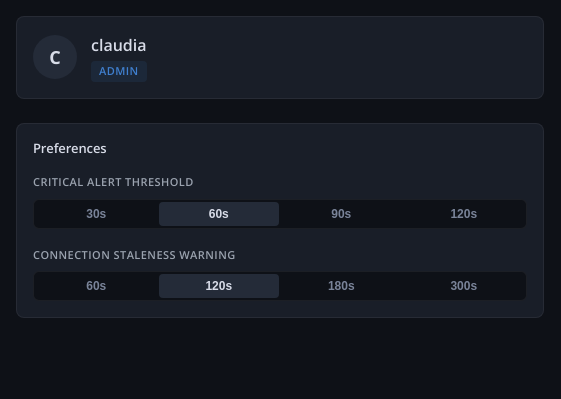
Test case: Profile — round-trip + error state › shows a save-error toast when the PATCH fails
# scope to the alert-threshold radiogroup — '120' appears in both controls.
Click the radio button labelled "120s" below "Critical alert threshold" at (464, 214), box [404,202,524,226]
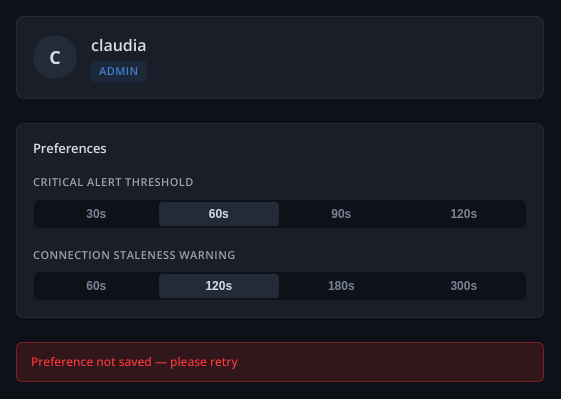
Expected: the message "Preference not saved — please retry" is shown, [16,342,544,382]
